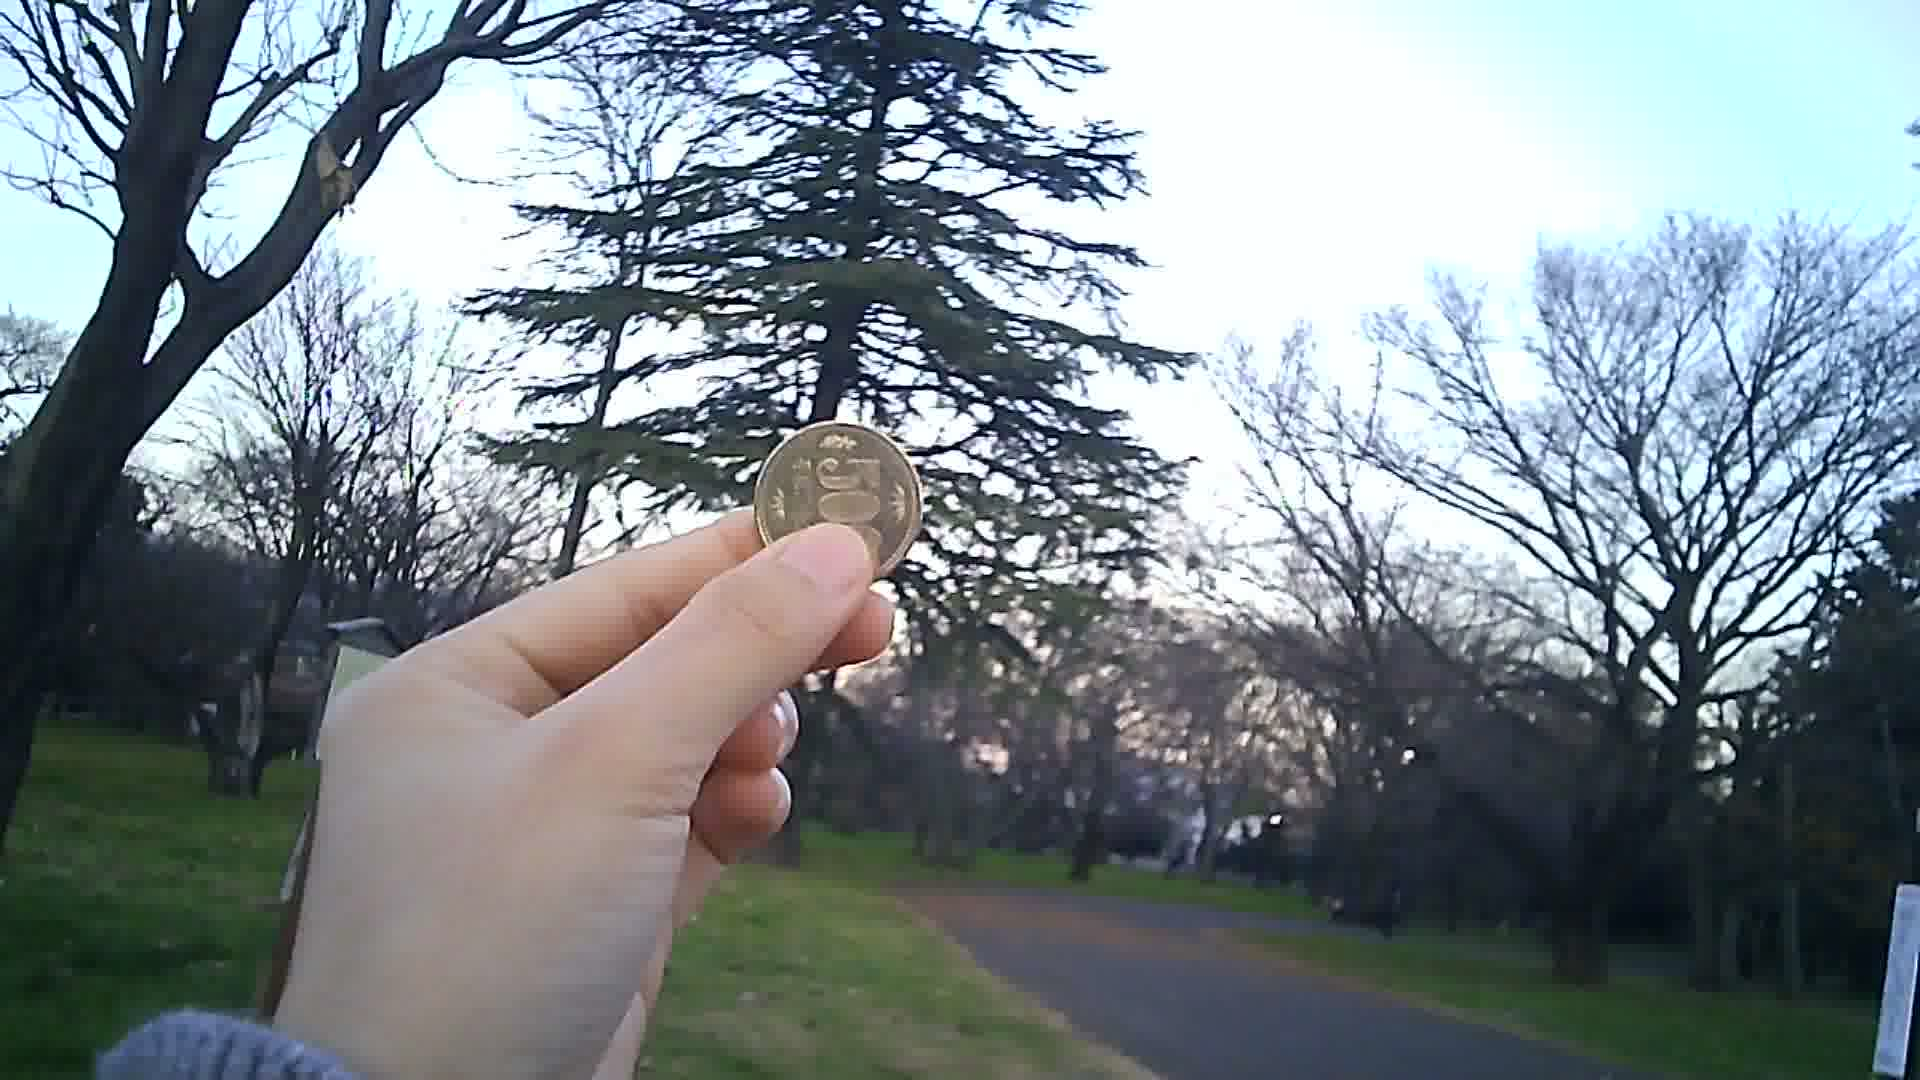500 Yen: (748, 423, 924, 587)
